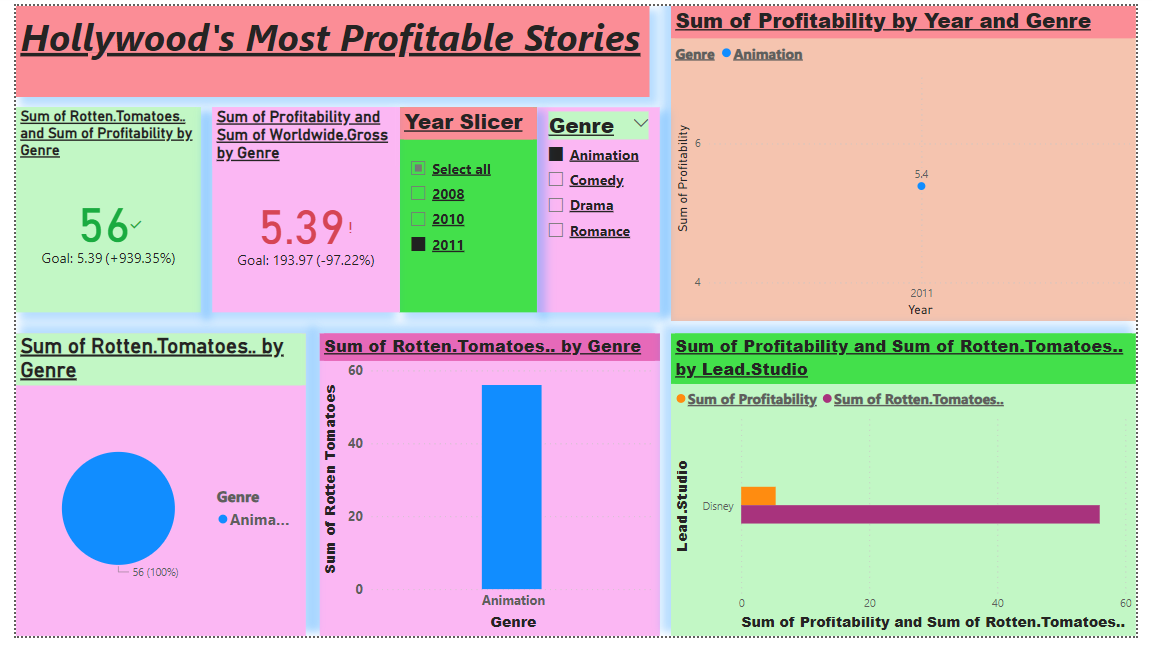

What the dashboard file says about the page in this screenshot:
{"tool":"powerbi","page":{"name":"Hollywoods Most Profitable Stories","canvas":[1280,720],"ordinal":0},"visuals":[{"type":"clusteredColumnChart","fields":{"Category":["clean_df.Genre"],"Y":["Sum(clean_df.Rotten.Tomatoes..)"]},"box":[347.1,374.3,388.6,345.7],"z":0},{"type":"lineChart","fields":{"Category":["clean_df.Year"],"Y":["Sum(clean_df.Profitability)"],"Series":["clean_df.Genre"]},"box":[748.6,0,531.4,360],"z":1},{"type":"textbox","box":[0,0,724.3,104.3],"z":2},{"type":"pieChart","fields":{"Series":["clean_df.Genre"],"Y":["Sum(clean_df.Rotten.Tomatoes..)"]},"box":[0,374.3,331.4,345.7],"z":3},{"type":"slicer","fields":{"Values":["clean_df.Genre"]},"box":[595.7,115.7,140,234.3],"z":4},{"type":"slicer","title":"Year Slicer","fields":{"Values":["clean_df.Year"]},"box":[438.6,115.7,157.1,234.3],"z":5},{"type":"kpi","fields":{"Indicator":["Sum(clean_df.Rotten.Tomatoes..)"],"Goal":["Sum(clean_df.Profitability)"],"TrendLine":["clean_df.Genre"]},"box":[0,115.7,211.4,234.3],"z":6},{"type":"kpi","fields":{"TrendLine":["clean_df.Genre"],"Indicator":["Sum(clean_df.Profitability)"],"Goal":["Sum(clean_df.Worldwide.Gross)"]},"box":[224.3,115.7,214.3,234.3],"z":7},{"type":"clusteredBarChart","fields":{"Category":["clean_df.Lead.Studio"],"Y":["Sum(clean_df.Profitability)","Sum(clean_df.Rotten.Tomatoes..)"]},"box":[748.6,374.3,531.4,345.7],"z":8}]}

Visuals, with their boxes in screenshot pixels (x1, y1, x2, y2), scaled from the page's 1280x720 canvas onto the 1152x647 screenshot:
clusteredColumnChart - clean_df.Genre x Sum(clean_df.Rotten.Tomatoes..): crop(312, 336, 662, 646)
lineChart - clean_df.Year x Sum(clean_df.Profitability): crop(674, 0, 1151, 324)
textbox: crop(0, 0, 652, 94)
pieChart - clean_df.Genre x Sum(clean_df.Rotten.Tomatoes..): crop(0, 336, 298, 646)
slicer - clean_df.Genre: crop(536, 104, 662, 315)
"Year Slicer" slicer: crop(395, 104, 536, 315)
kpi - Sum(clean_df.Rotten.Tomatoes..) x Sum(clean_df.Profitability): crop(0, 104, 190, 315)
kpi - clean_df.Genre x Sum(clean_df.Profitability): crop(202, 104, 395, 315)
clusteredBarChart - clean_df.Lead.Studio x Sum(clean_df.Profitability): crop(674, 336, 1151, 646)
